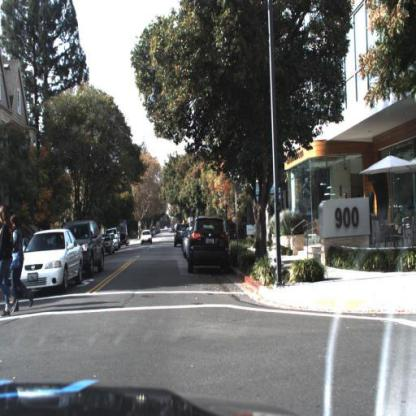car: (16, 226, 84, 296), (188, 217, 228, 274), (83, 221, 106, 278), (103, 236, 116, 258), (174, 223, 185, 248), (140, 227, 154, 245), (140, 230, 153, 248), (121, 233, 130, 248), (113, 236, 121, 252)
pedestrian: (342, 189, 353, 199), (341, 190, 350, 202)
